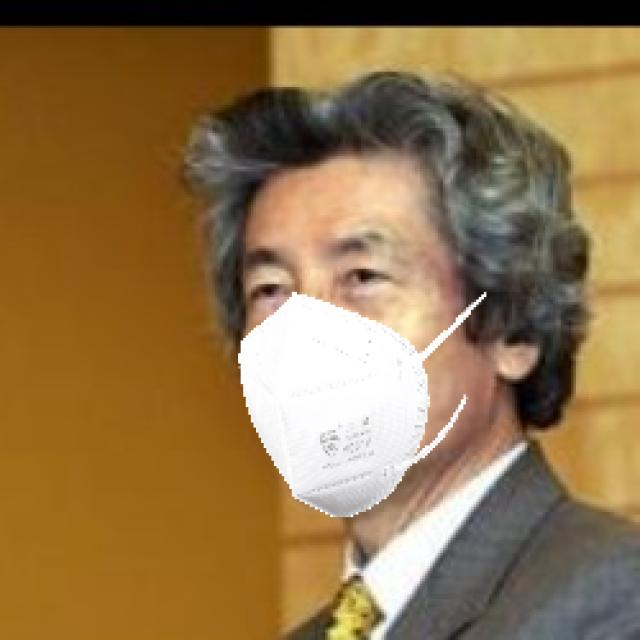mask: (210, 296, 506, 528)
